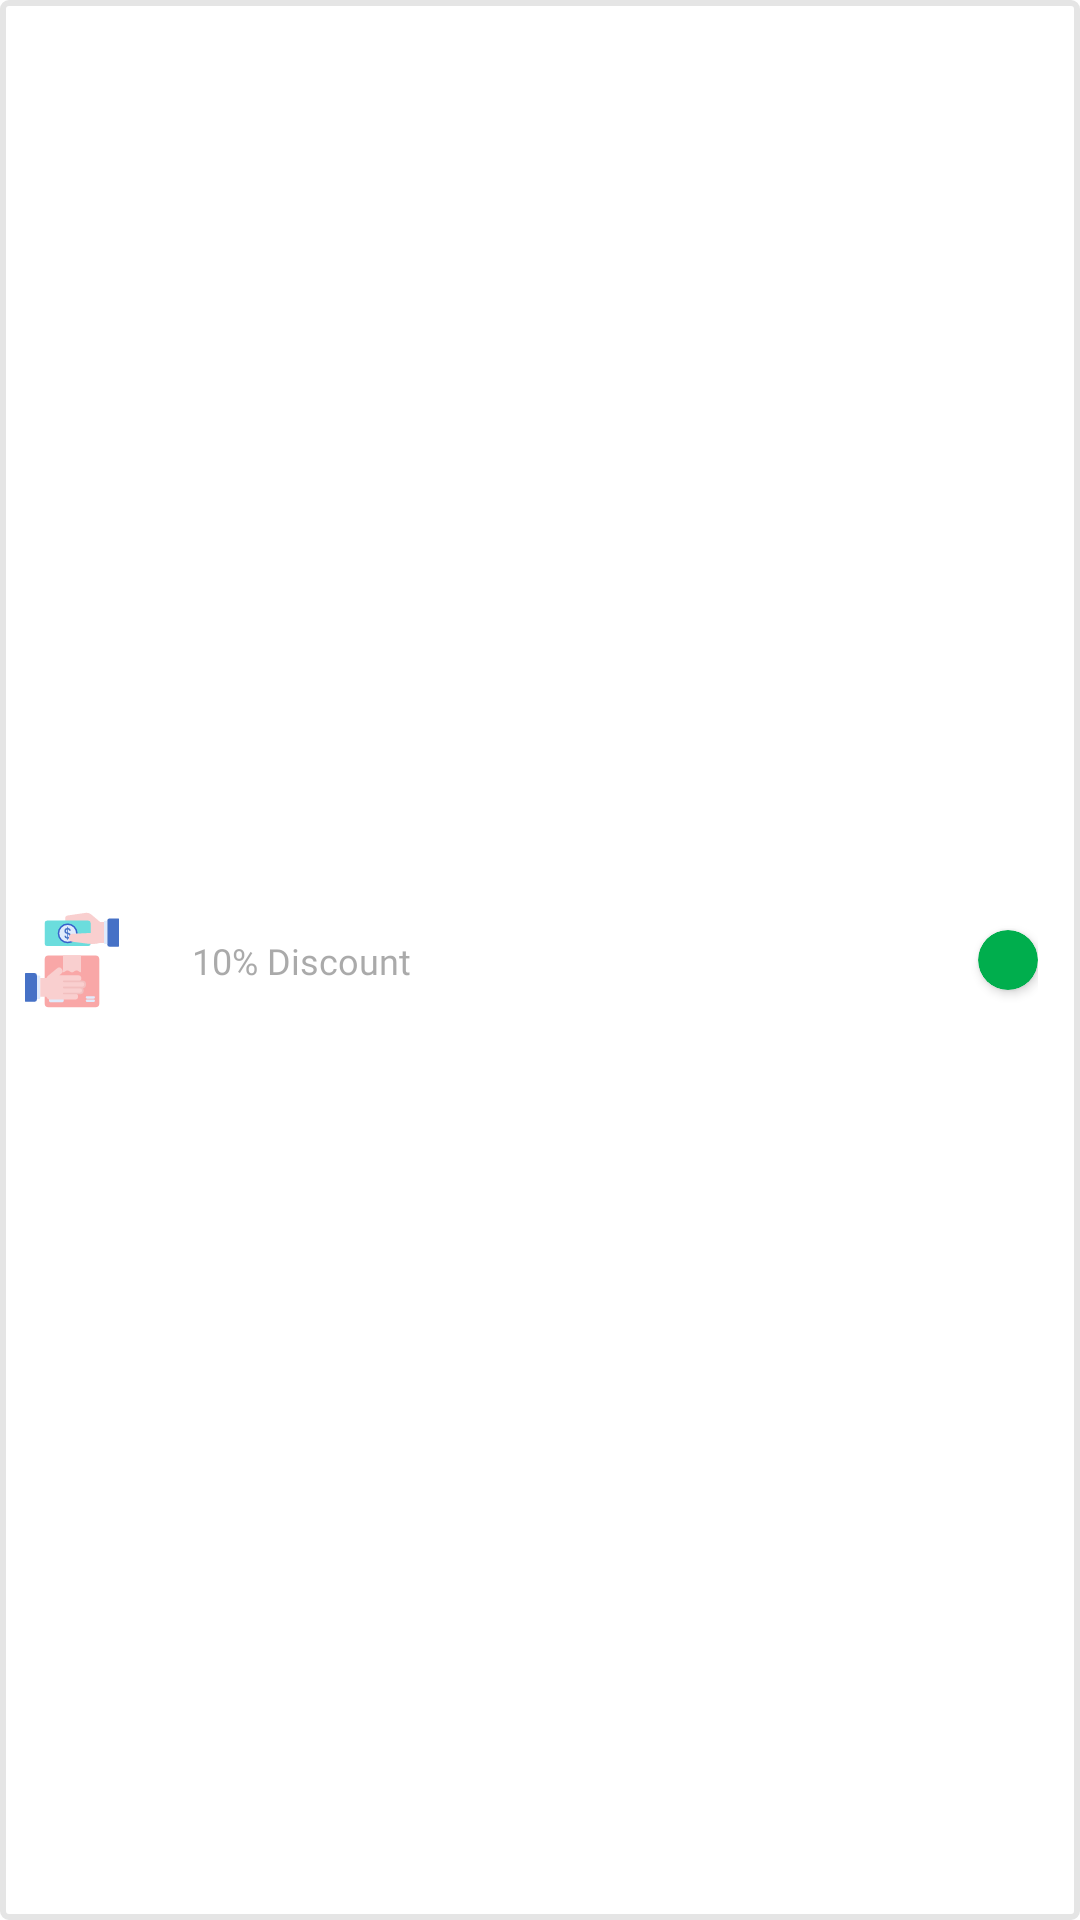

Named icons in this screenshot (1080×1920) and their bounding boxes, (x1, y1, x2, y2):
cash on delivery: (25, 913, 119, 1007)
